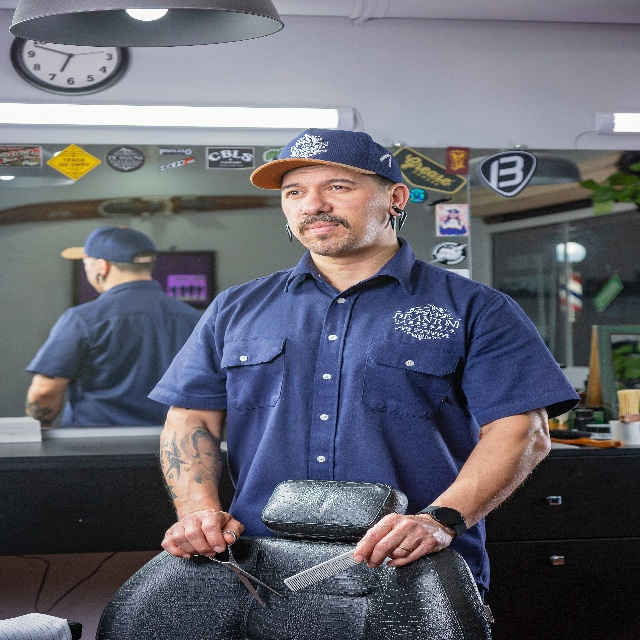Sin_guantes: (353, 513, 454, 569), (161, 509, 245, 560)
